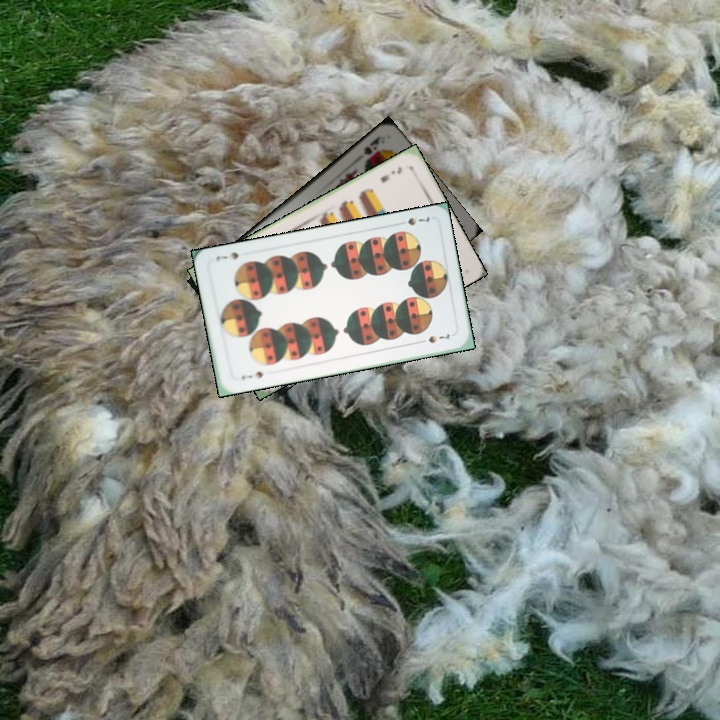E7: (376, 163, 404, 185)
S7: (393, 212, 432, 228), (237, 367, 265, 382)
SK: (359, 131, 384, 165)
